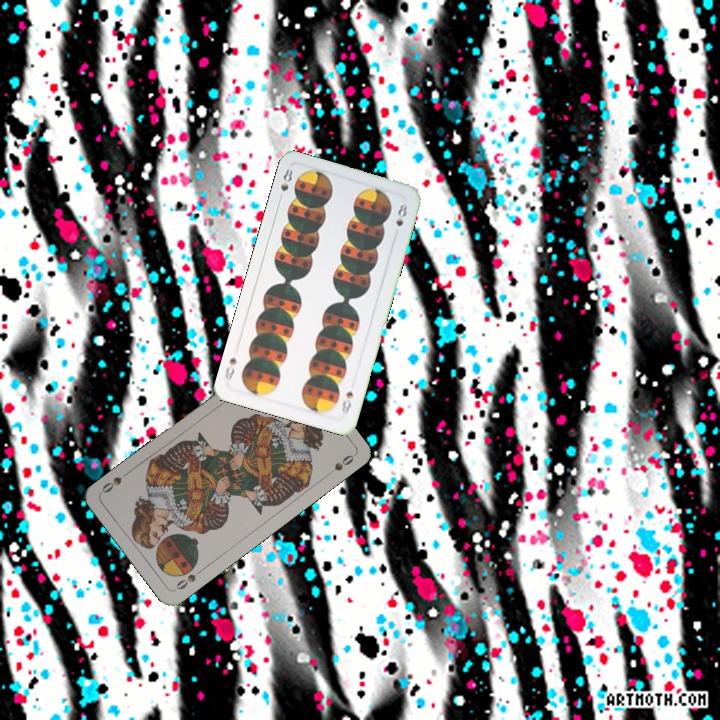S8: (275, 164, 295, 204), (337, 387, 356, 416)
SO: (170, 565, 206, 593)
